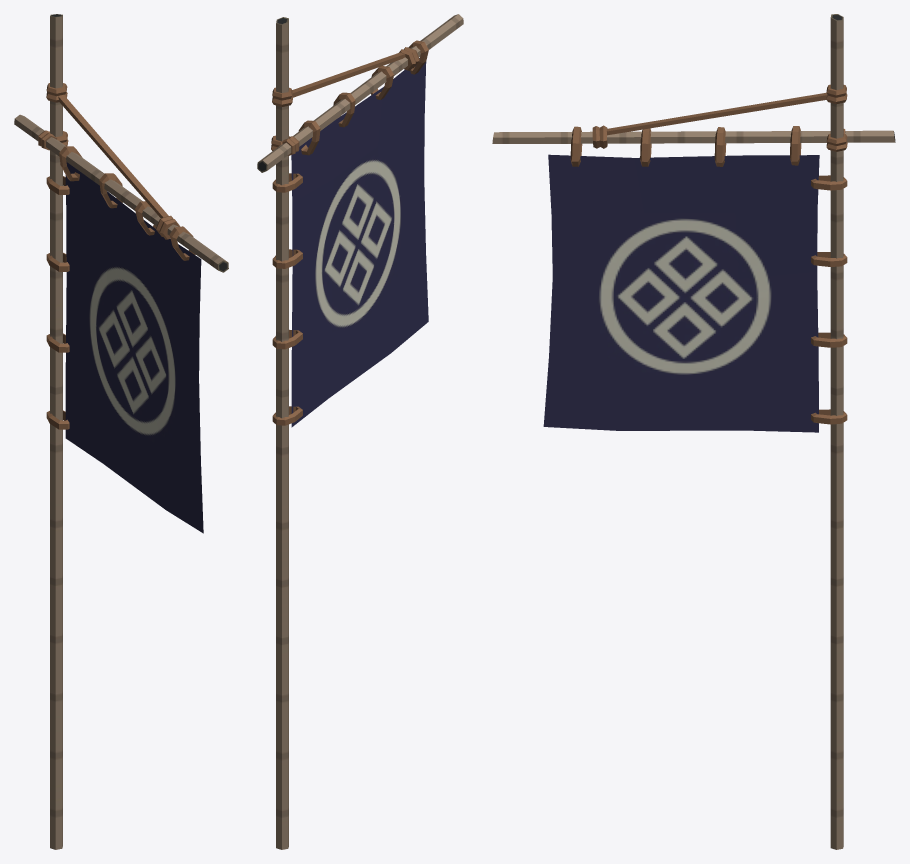
File: samurai_SM_Prop_Banner_03.gltf
The picture shows the model from 3 angles, left to right: view 1: azimuth 30°, elevation 25°; view 2: azimuth 150°, elevation 25°; view 3: azimuth 270°, elevation 25°; orthographic projection.
Visible parts, largest first — view 1: SM_Prop_Banner_03; view 2: SM_Prop_Banner_03; view 3: SM_Prop_Banner_03.
Boxes of the visible parts, left/top/right/bottom form: SM_Prop_Banner_03: left=14, top=14, right=228, bottom=849; SM_Prop_Banner_03: left=257, top=14, right=463, bottom=849; SM_Prop_Banner_03: left=492, top=14, right=895, bottom=849.
Size of the model in its own units: 0.1861 by 5.15 by 2.27.
Materials: 1 (1 with a texture image).
